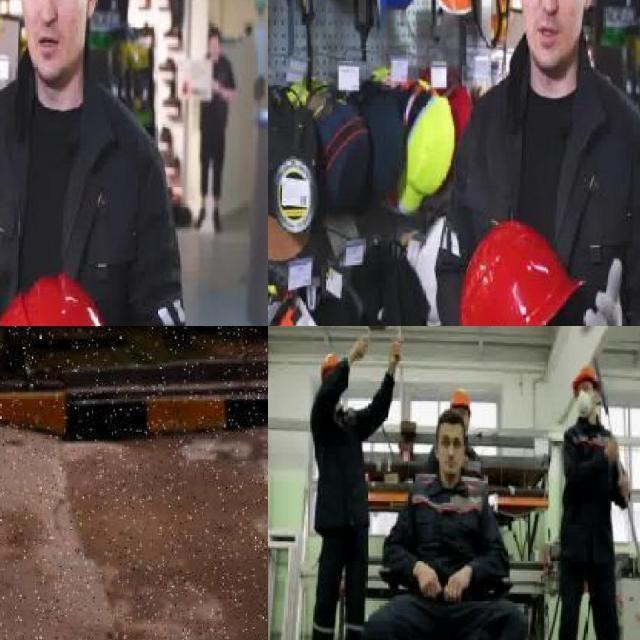apron: (569, 256, 622, 326)
